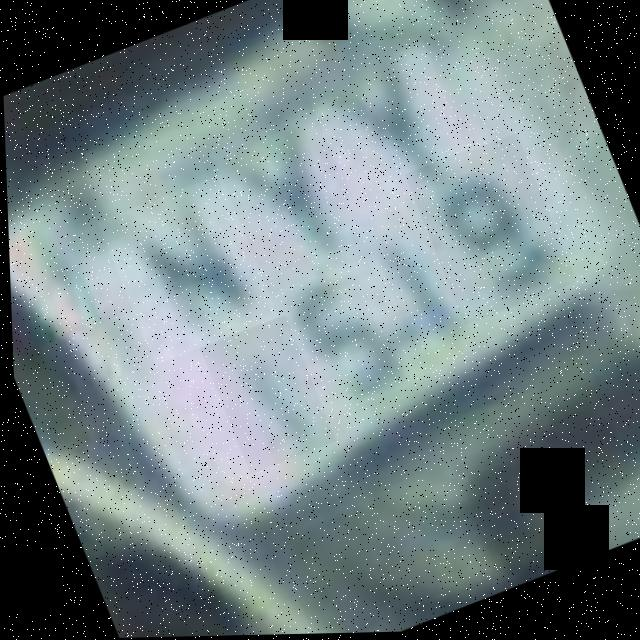1: (341, 204, 477, 372), (196, 315, 334, 476)
5: (255, 238, 425, 425)
9: (403, 134, 576, 328)
N: (95, 174, 277, 366)
Y: (291, 10, 479, 226), (189, 90, 375, 301)
